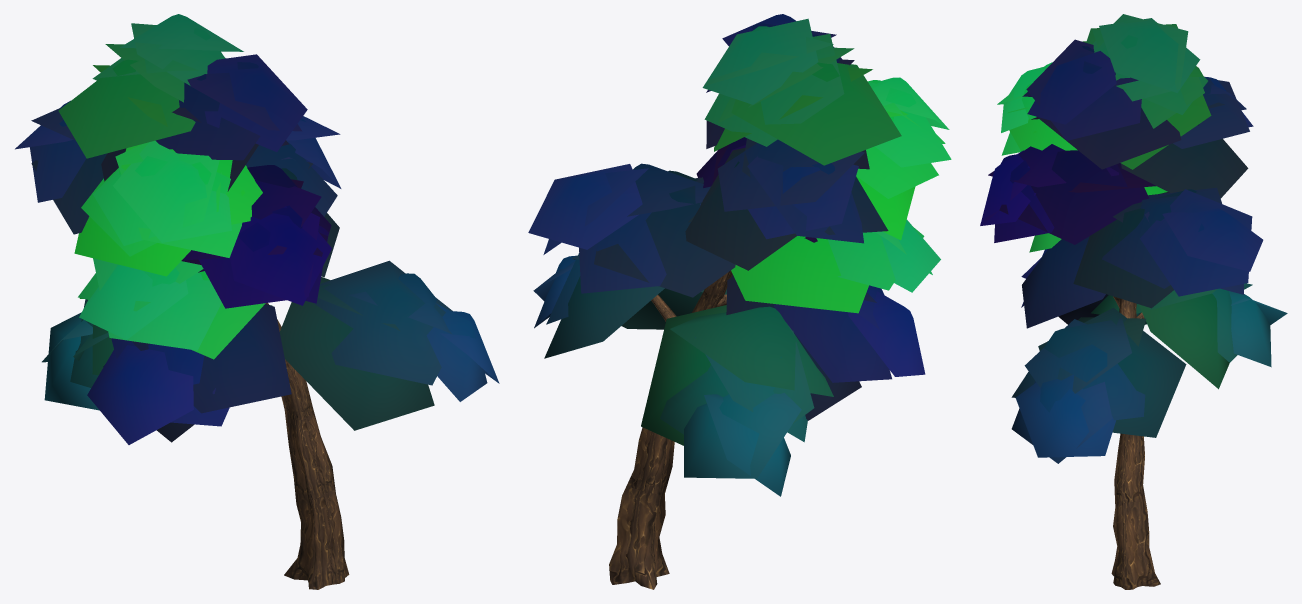
The model's file is FantasyTree16.fbx.
3 renders of one model, left to right at view 1: azimuth 30°, elevation 25°; view 2: azimuth 150°, elevation 25°; view 3: azimuth 270°, elevation 25°, orthographic. The views are drawn at different scales.
Visible parts, largest first — view 1: fantasyleaf4_alpha_1, tree2_0; view 2: fantasyleaf4_alpha_1, tree2_0; view 3: fantasyleaf4_alpha_1, tree2_0.
Boxes of the visible parts, x1,y1,x2,y2 form: fantasyleaf4_alpha_1: (15,14,499,444); tree2_0: (265,303,349,589); fantasyleaf4_alpha_1: (528,14,951,496); tree2_0: (609,270,732,589); fantasyleaf4_alpha_1: (980,14,1287,463); tree2_0: (1111,296,1160,589).
Bounding box in the file's own units: 417 × 611 × 343.
1 material, 1 textured.
